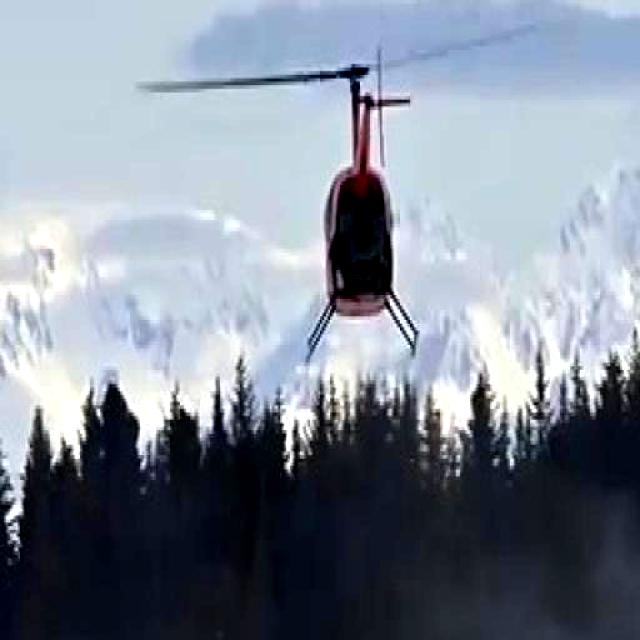drone: (279, 32, 436, 358)
